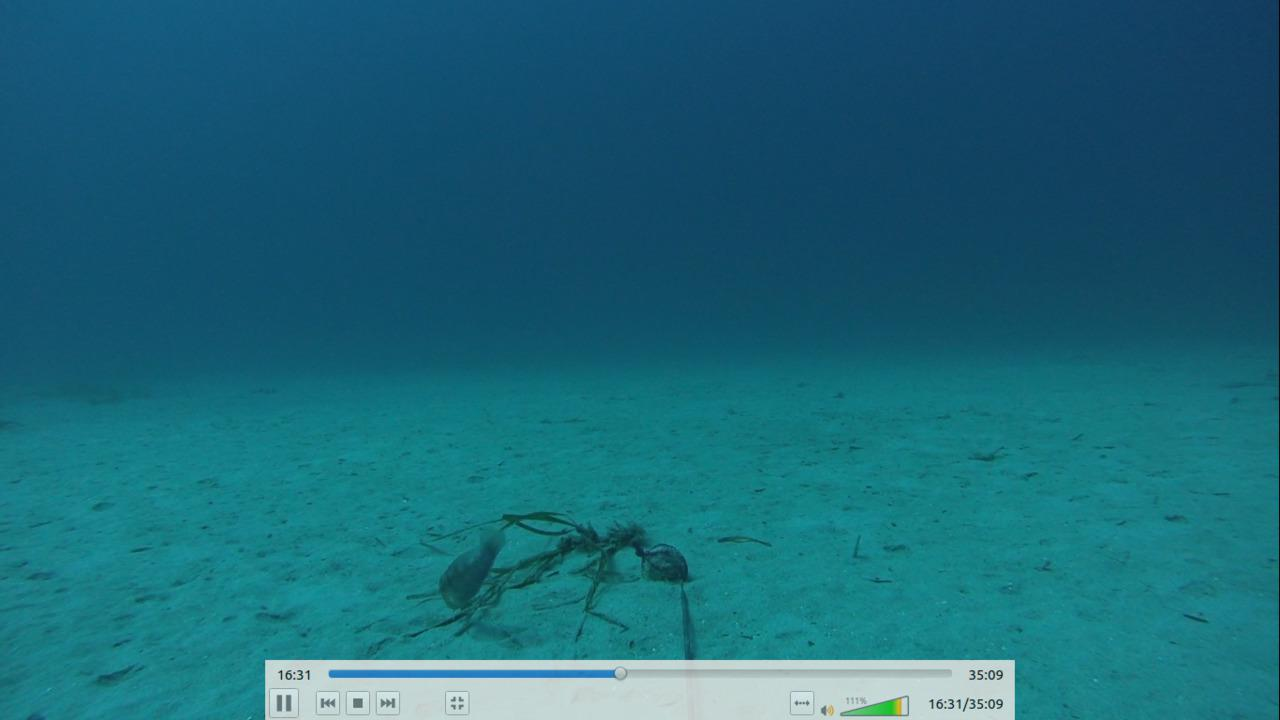raor: (433, 520, 510, 612)
